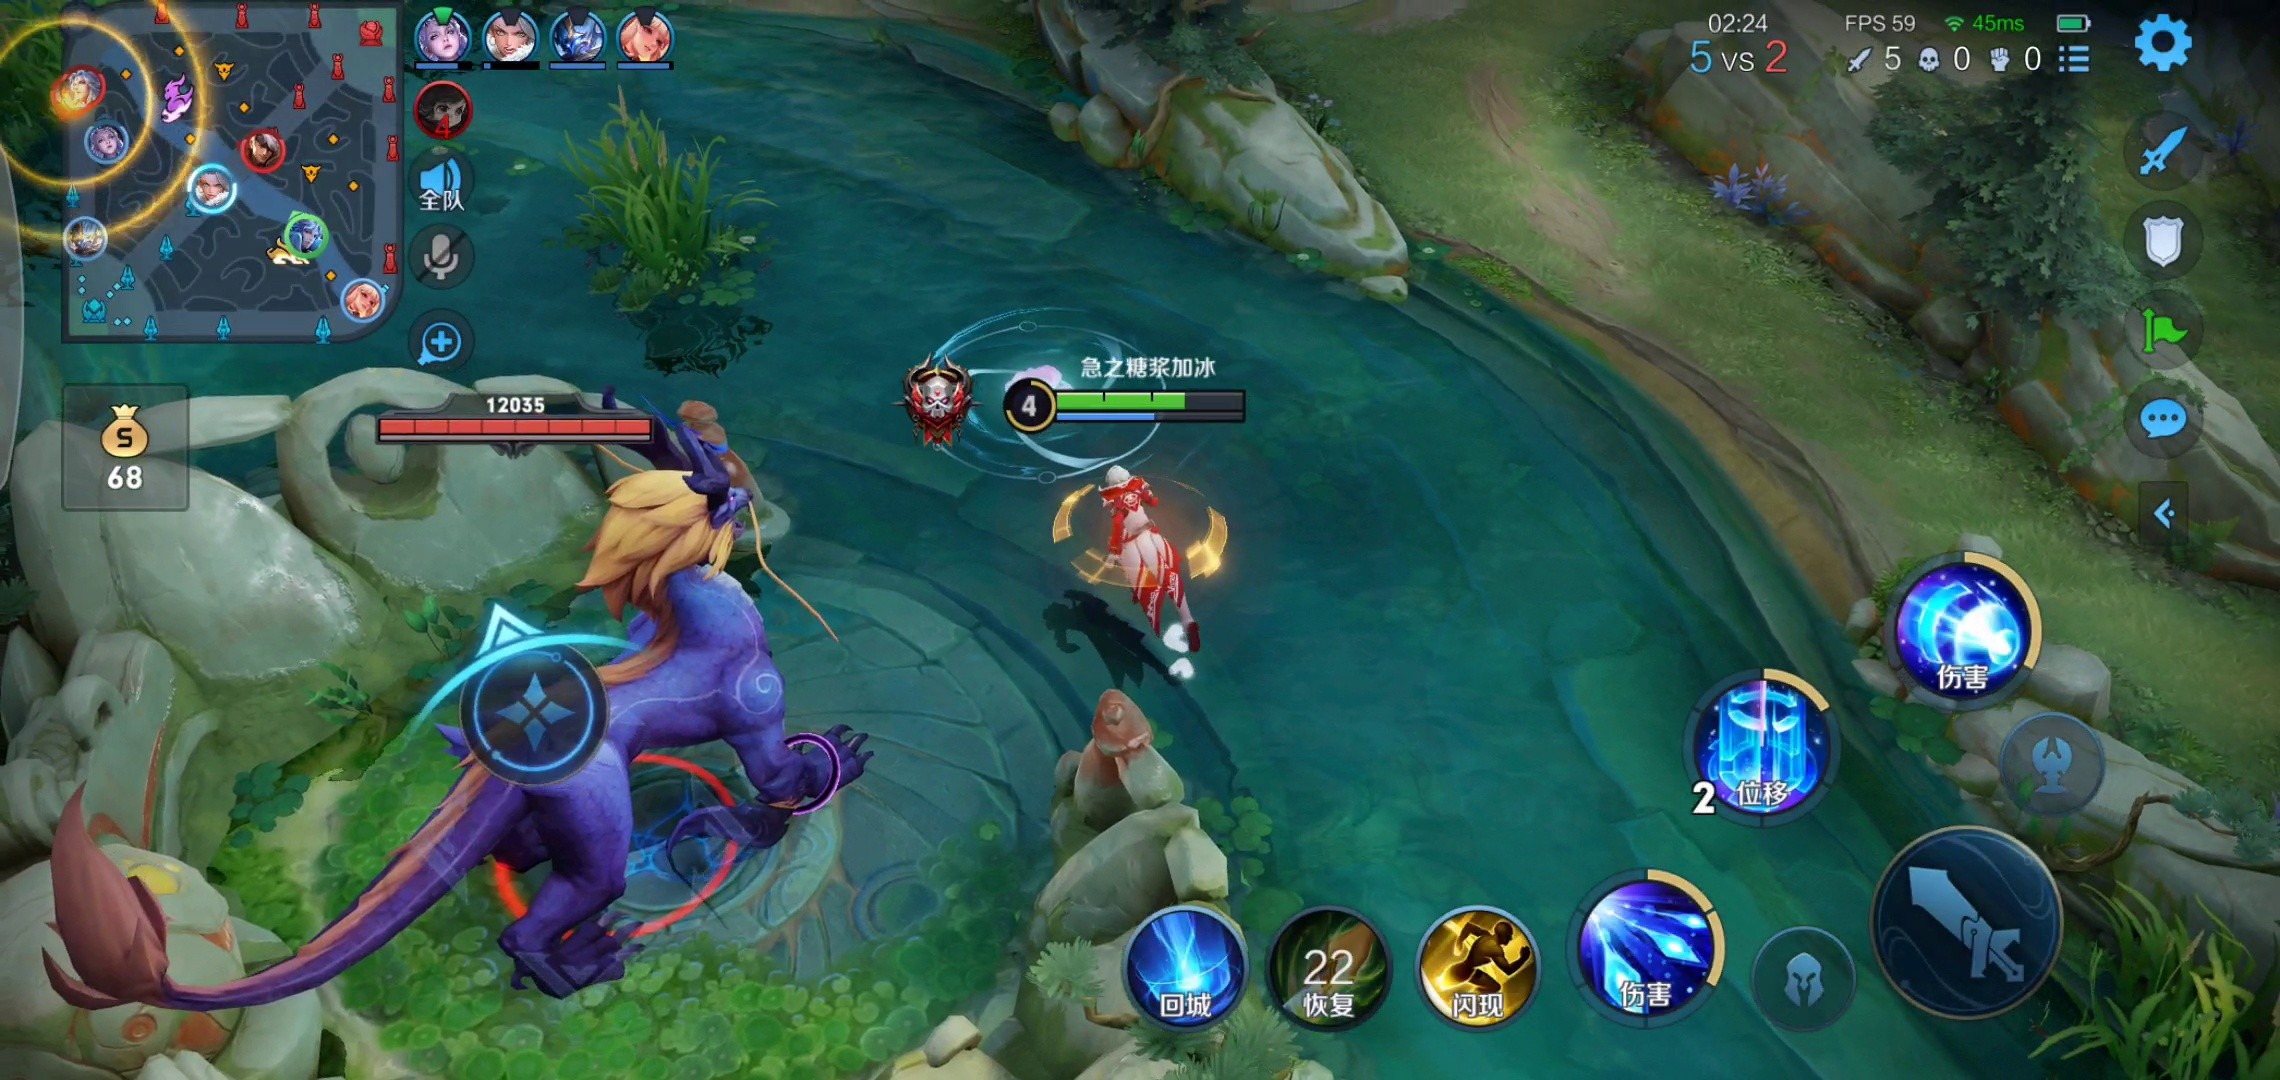dragon: (265, 438, 939, 1002)
grass: (2015, 894, 2279, 1073), (560, 106, 763, 318), (1, 4, 87, 151)
hero: (1035, 443, 1249, 653)
